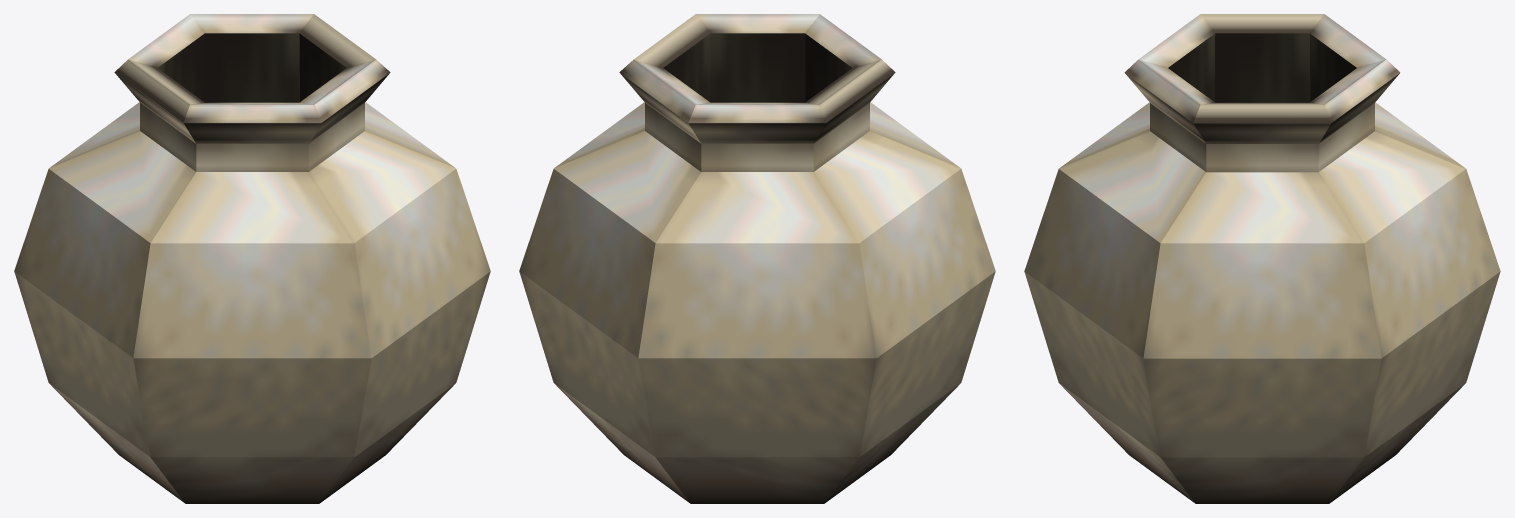
File: Inside_Poly_Pottery_01.obj
3 views of the same model, side by side, from view 1: azimuth 30°, elevation 25°; view 2: azimuth 150°, elevation 25°; view 3: azimuth 270°, elevation 25° (orthographic).
Visible parts, largest first — view 1: Circle.001; view 2: Circle.001; view 3: Circle.001.
Part boxes in pixels (x1,y1,x2,y2): Circle.001: (14,14,490,503); Circle.001: (519,14,995,503); Circle.001: (1024,14,1500,503).
Bounding box in the file's own units: 0.7213 × 0.7632 × 0.8329.
1 material, 1 textured.
